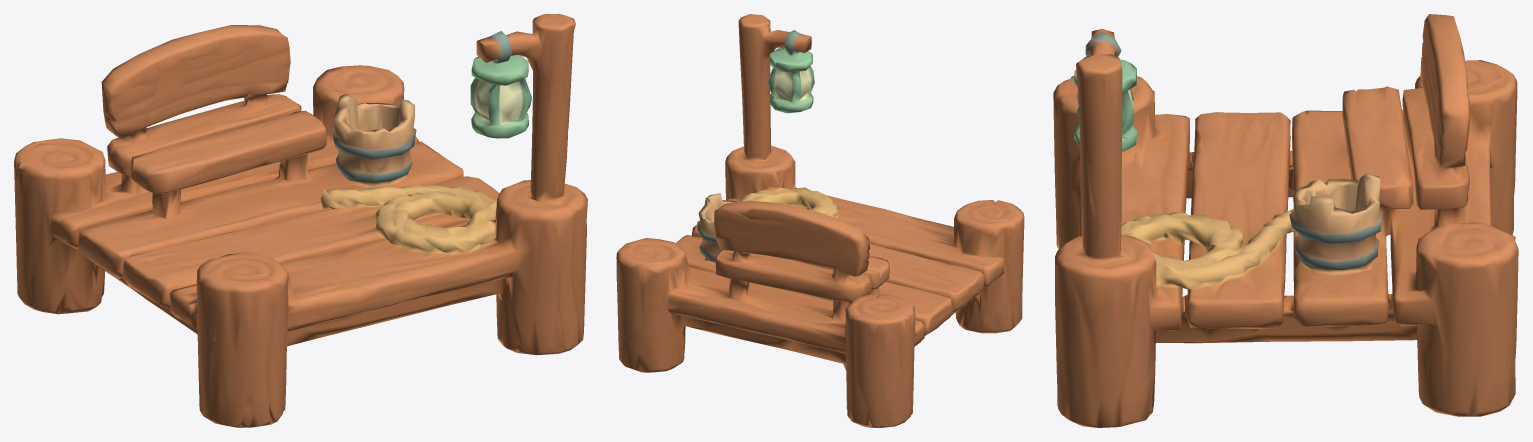
Rendered from ponton.glb.
3 renders of one model, left to right at view 1: azimuth 30°, elevation 25°; view 2: azimuth 150°, elevation 25°; view 3: azimuth 270°, elevation 25°, orthographic. The views are drawn at different scales.
Visible parts, largest first — view 1: tripo_node_e4991b7b-5ef2-4654-9b31-a72e41c1abf0; view 2: tripo_node_e4991b7b-5ef2-4654-9b31-a72e41c1abf0; view 3: tripo_node_e4991b7b-5ef2-4654-9b31-a72e41c1abf0.
Boxes of the visible parts, bbox=[...] form: tripo_node_e4991b7b-5ef2-4654-9b31-a72e41c1abf0: bbox=[14, 14, 587, 427]; tripo_node_e4991b7b-5ef2-4654-9b31-a72e41c1abf0: bbox=[616, 14, 1024, 427]; tripo_node_e4991b7b-5ef2-4654-9b31-a72e41c1abf0: bbox=[1053, 14, 1518, 427].
Size of the model in its own units: 1 by 0.7619 by 0.9063.
1 material, 1 textured.
